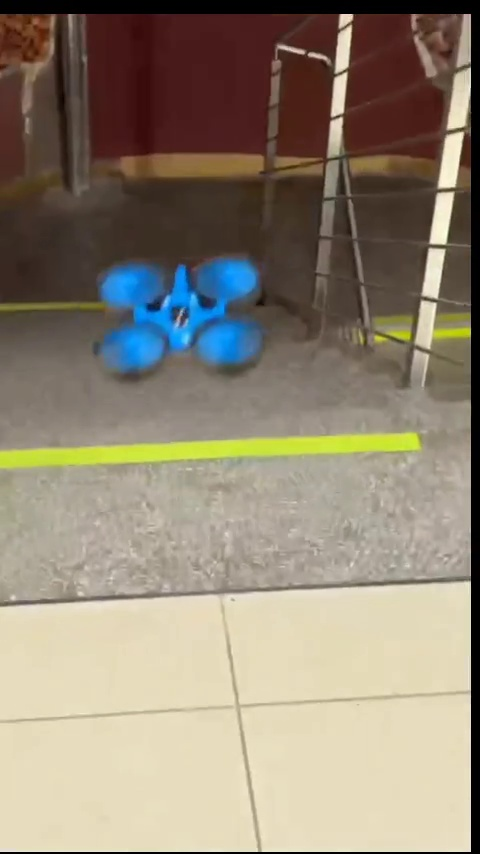drone: (96, 261, 274, 380)
